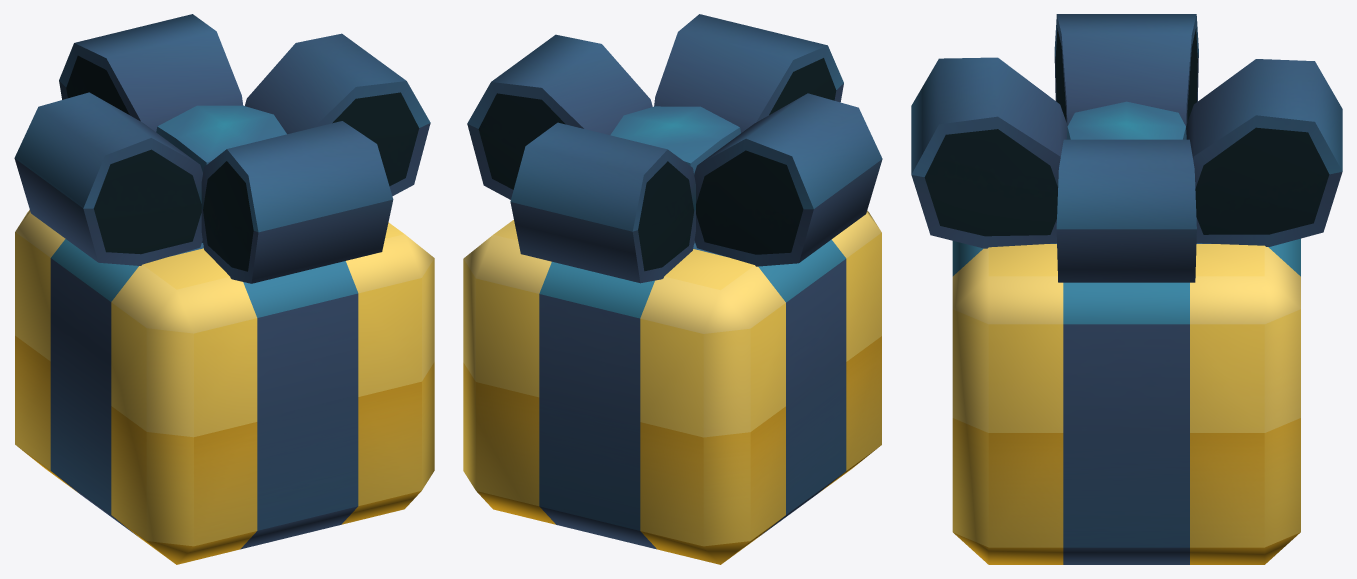
Rendered from presi_square_6_yellow.fbx.
The picture shows the model from 3 angles, left to right: view 1: azimuth 30°, elevation 25°; view 2: azimuth 150°, elevation 25°; view 3: azimuth 270°, elevation 25°; orthographic projection. The views are drawn at different scales.
Parts seen in each view (by area): view 1: presi_square_6_yellow; view 2: presi_square_6_yellow; view 3: presi_square_6_yellow.
Part boxes in pixels (x1,y1,x2,y2): presi_square_6_yellow: [14, 14, 434, 564]; presi_square_6_yellow: [463, 14, 882, 564]; presi_square_6_yellow: [911, 14, 1342, 564].
Size of the model in its own units: 67.54 by 74 by 69.07.
1 material, 1 textured.
